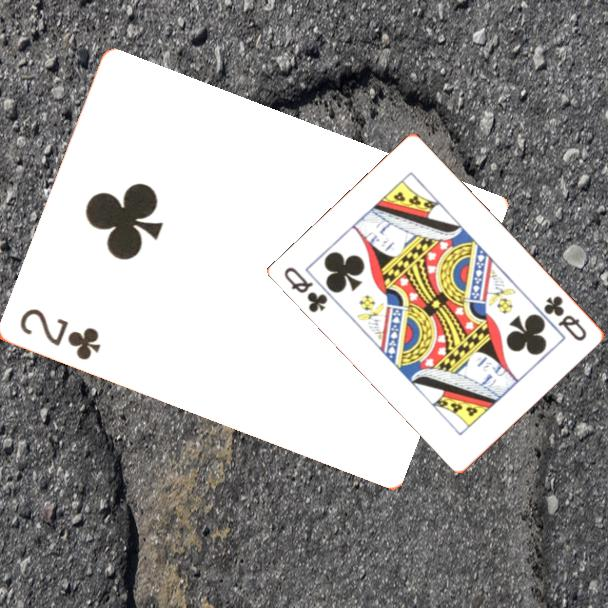c02: (15, 305, 103, 364)
c12: (281, 263, 331, 316), (540, 292, 590, 344)
